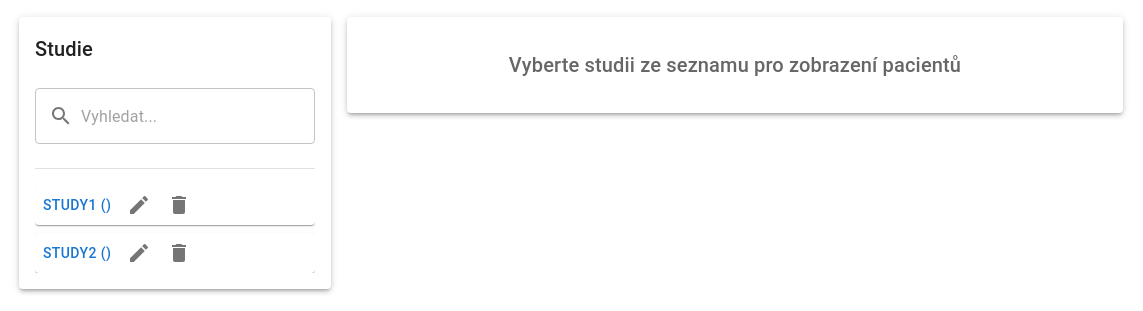
Test: StudiesList component › should render correctly and handle study search
Check: the number of buttons is 6, box top-left (35, 187), bottom-right (119, 223); top-left (119, 185), bottom-right (159, 225); top-left (159, 185), bottom-right (199, 225); top-left (35, 235), bottom-right (119, 271); top-left (119, 233), bottom-right (159, 273); top-left (159, 233), bottom-right (199, 273)
// Search for a study
Type "Study1" into the field with placeholder "Vyhledat..." at (198, 116), box top-left (81, 88), bottom-right (315, 144)
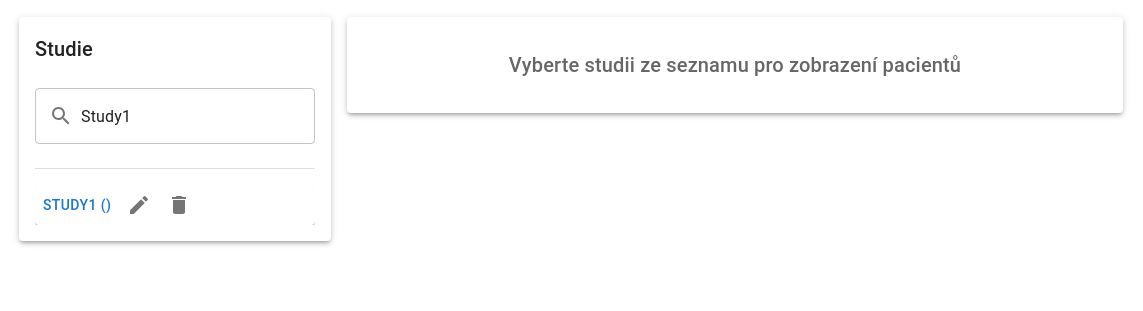
Check: the button "Study1 ()" is shown, box top-left (35, 187), bottom-right (119, 223)
Check: the number of buttons is 3, box top-left (35, 187), bottom-right (119, 223); top-left (119, 185), bottom-right (159, 225); top-left (159, 185), bottom-right (199, 225)
// Clear the search input
Clear the field with placeholder "Vyhledat..." at (198, 116), box top-left (81, 88), bottom-right (315, 144)
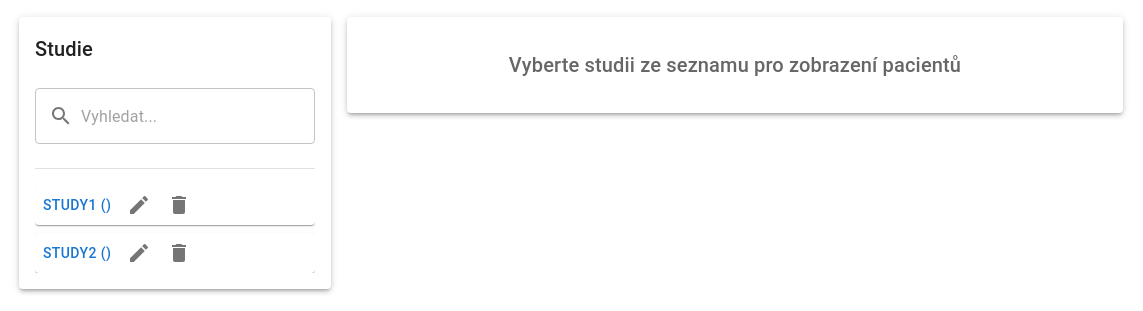
Check: the number of buttons is 6, box top-left (35, 187), bottom-right (119, 223); top-left (119, 185), bottom-right (159, 225); top-left (159, 185), bottom-right (199, 225); top-left (35, 235), bottom-right (119, 271); top-left (119, 233), bottom-right (159, 273); top-left (159, 233), bottom-right (199, 273)
